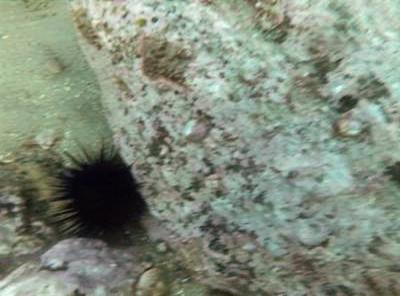urchin: (52, 148, 151, 243)
